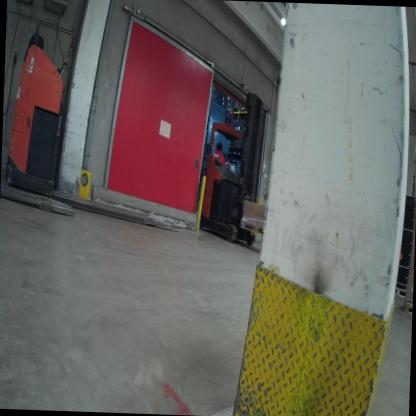forklift: (187, 111, 265, 256)
pallet: (240, 215, 277, 238), (394, 286, 411, 303), (400, 297, 412, 315)
pallet_truck: (3, 6, 197, 237)
